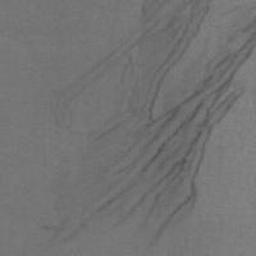Water spot: (32, 0, 256, 256)
